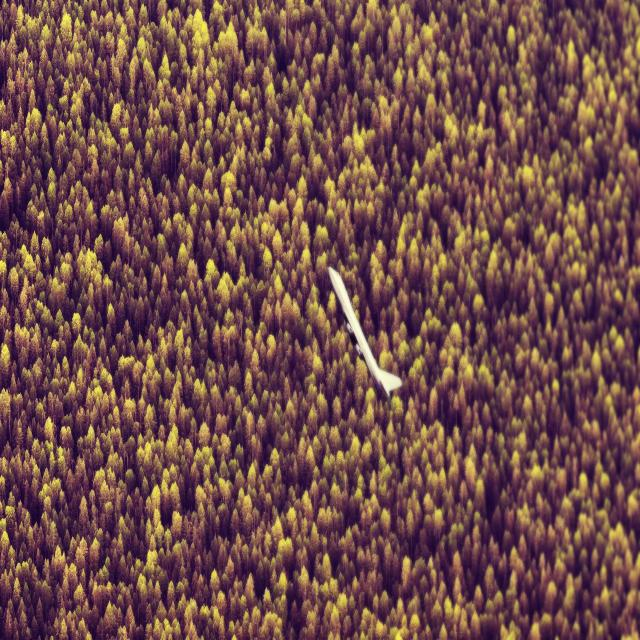airplane: (327, 265, 402, 401)
